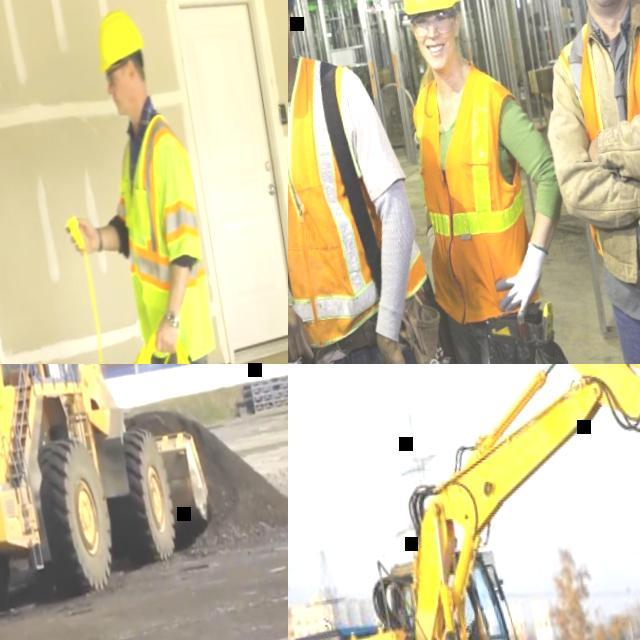helmet: (91, 7, 148, 75), (394, 0, 461, 19)
vest: (288, 41, 438, 359), (394, 59, 554, 328), (548, 0, 640, 299), (102, 111, 214, 312)
